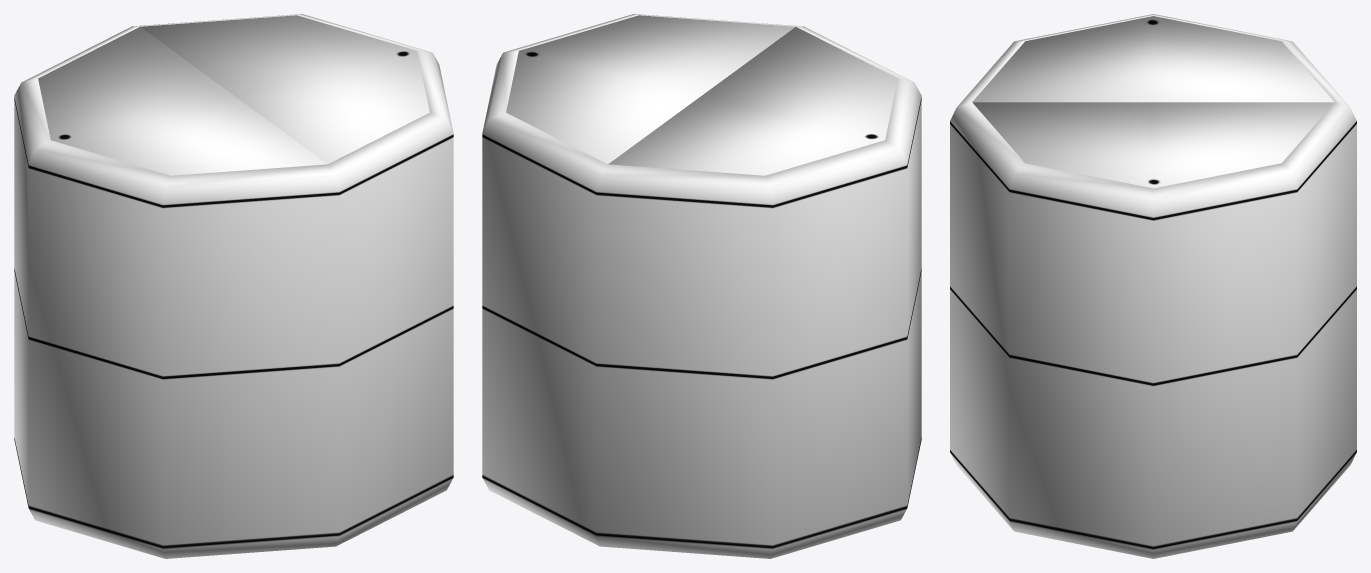
File: Fueselage.glb
The picture shows the model from 3 angles, left to right: view 1: azimuth 30°, elevation 25°; view 2: azimuth 150°, elevation 25°; view 3: azimuth 270°, elevation 25°; orthographic projection. The views are drawn at different scales.
Visible parts, largest first — view 1: Rocket_Body, Rocket_BodyPanel_A, Rocket_BodyPanel_B; view 2: Rocket_Body, Rocket_BodyPanel_A, Rocket_BodyPanel_B; view 3: Rocket_Body, Rocket_BodyPanel_A, Rocket_BodyPanel_B.
Part boxes in pixels (left/top/right/bottom): Rocket_Body: left=14, top=14, right=453, bottom=558; Rocket_BodyPanel_A: left=38, top=27, right=327, bottom=175; Rocket_BodyPanel_B: left=140, top=15, right=429, bottom=163; Rocket_Body: left=482, top=14, right=921, bottom=558; Rocket_BodyPanel_A: left=608, top=27, right=897, bottom=175; Rocket_BodyPanel_B: left=506, top=15, right=795, bottom=163; Rocket_Body: left=950, top=14, right=1356, bottom=558; Rocket_BodyPanel_A: left=972, top=16, right=1334, bottom=102; Rocket_BodyPanel_B: left=972, top=102, right=1334, bottom=188.
Bounding box in the file's own units: 2.25 × 2 × 2.
Materials: 1 (1 with a texture image).
